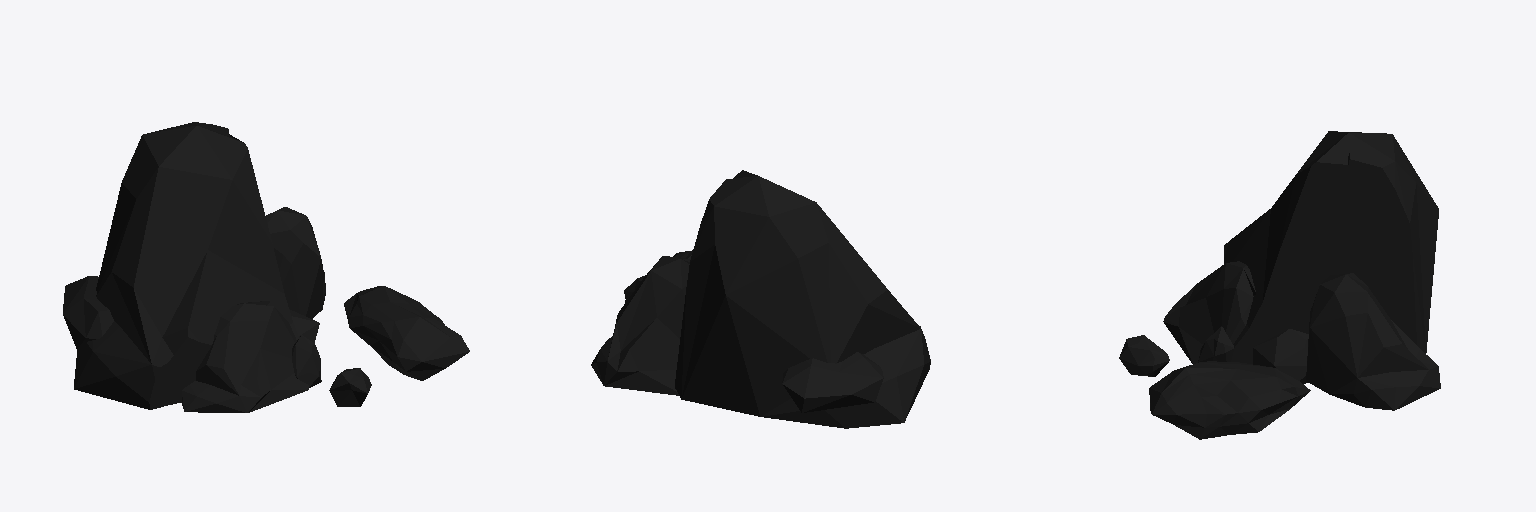
The model's file is rocksArray1.obj.
The picture shows the model from 3 angles: view 1: azimuth 30°, elevation 25°; view 2: azimuth 150°, elevation 25°; view 3: azimuth 270°, elevation 25°; orthographic projection.
Parts seen in each view (by area): view 1: Icosphere.001; view 2: Icosphere.001; view 3: Icosphere.001.
Part boxes in pixels (left/top/right/bottom): Icosphere.001: left=63, top=122, right=469, bottom=412; Icosphere.001: left=591, top=170, right=930, bottom=428; Icosphere.001: left=1119, top=131, right=1440, bottom=439.
Size of the model in its own units: 9.51 by 6.35 by 8.33.